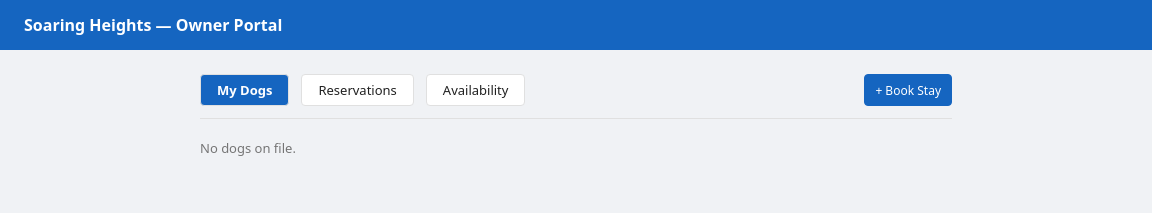
Test case: PortalHome — Availability tab › renders size class select and date range inputs
The width and height of the screenshot is (1152, 213).
Check: the button "My Dogs" is shown, box [200,74,289,106]
Click the button "Availability": (476, 90) [426,74,525,106]
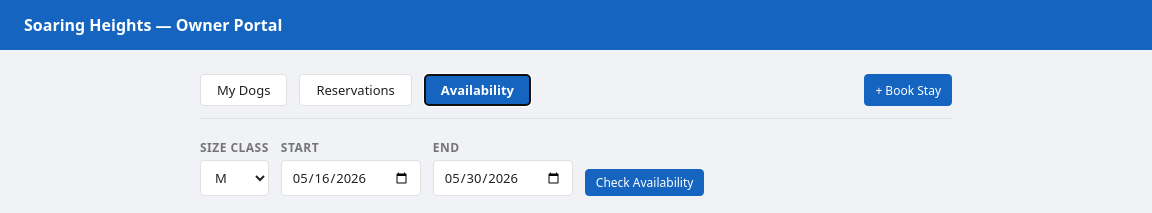
Check: the dropdown is shown, box [200,160,269,196]
Check: the button "Check Availability" is shown, box [585,169,704,196]
